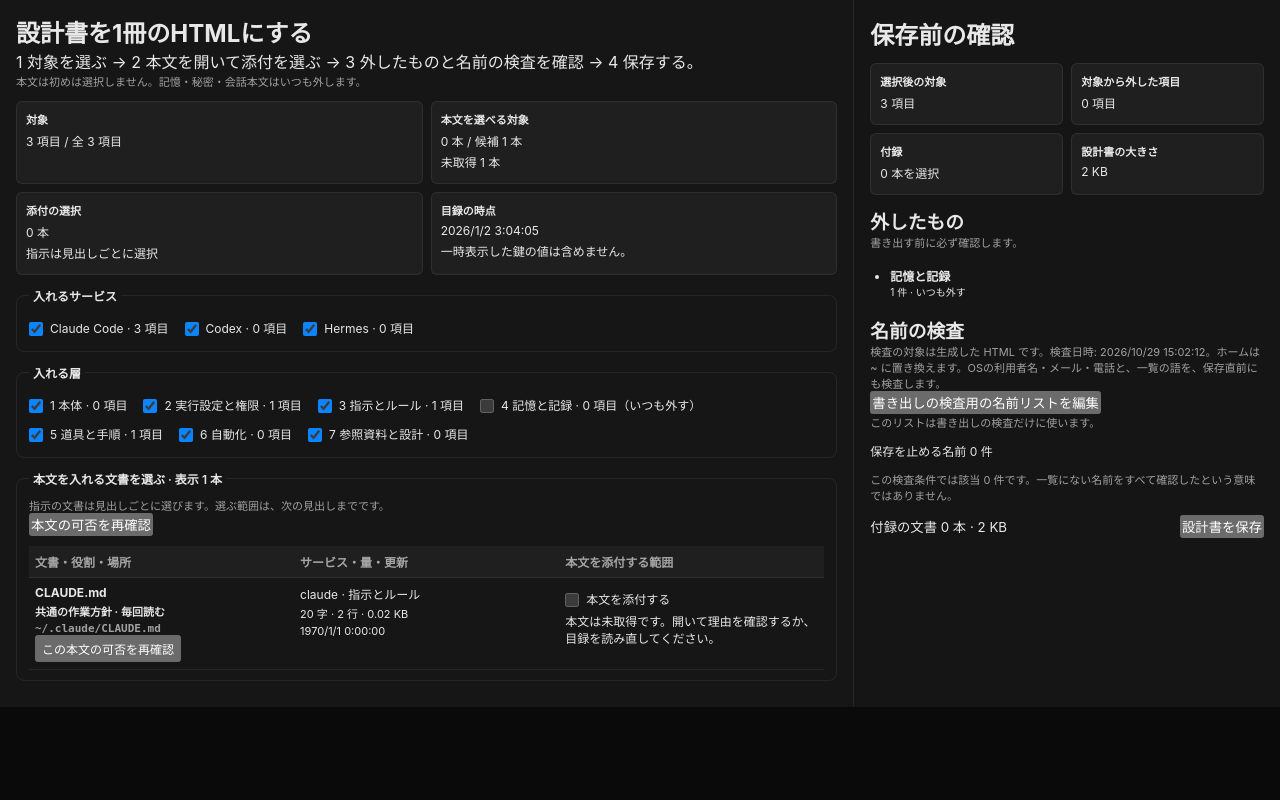
Scenario: v04 export › rechecks one missing body without enabling an unreadable attachment
Expected: the checkbox labelled "本文を添付する" is disabled, x1=565 y1=593 x2=579 y2=607
What coordinates should you click on to do the following:
click the button "この本文の可否を再確認"
I would click on:
 (108, 648)
Its box is x1=35 y1=635 x2=181 y2=662.
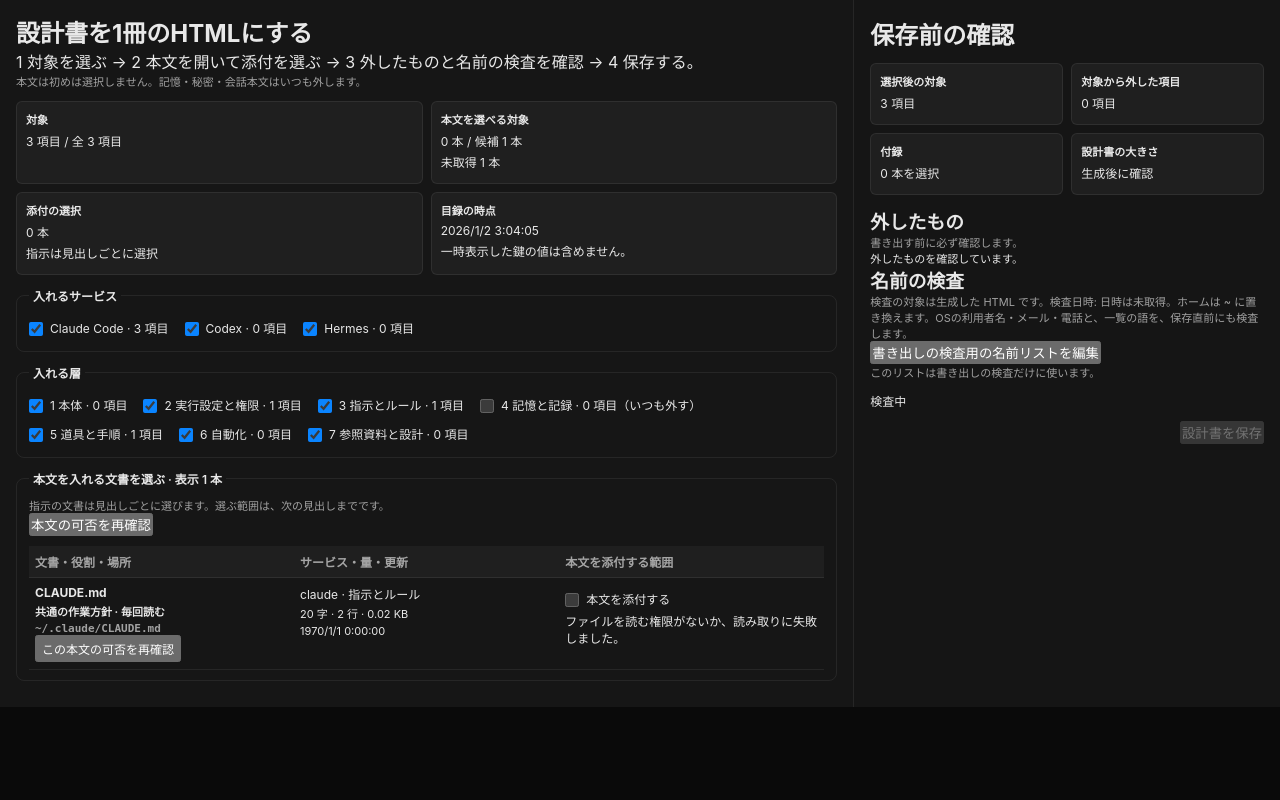
Expected: the checkbox labelled "本文を添付する" is disabled, x1=565 y1=593 x2=579 y2=607
Expected: the text "ファイルを読む権限がないか" is shown, x1=565 y1=614 x2=817 y2=646
